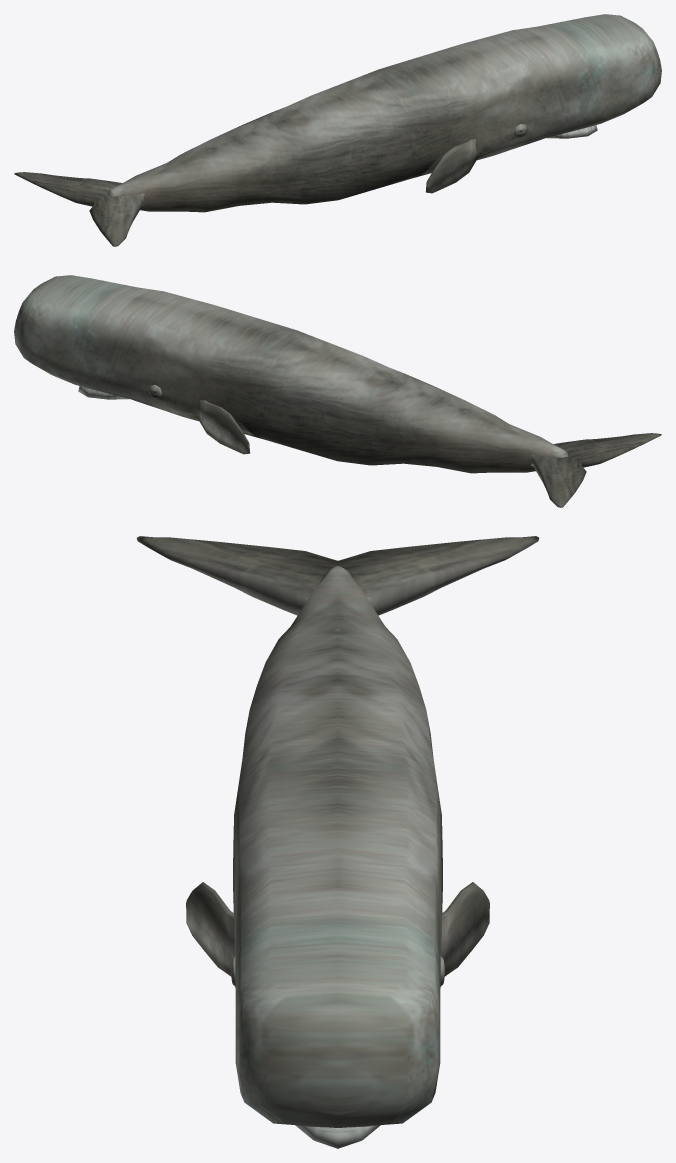
Rendered from sperm_whale_final.glb.
3 renders of one model, top to bottom at view 1: azimuth 30°, elevation 25°; view 2: azimuth 150°, elevation 25°; view 3: azimuth 270°, elevation 25°, orthographic. The views are drawn at different scales.
Visible parts, largest first — view 1: Whale_tail, Fins; view 2: Whale_tail, Fins; view 3: Whale_tail, Fins.
Boxes of the visible parts, bbox=[...] form: Whale_tail: bbox=[14, 14, 661, 246]; Fins: bbox=[425, 138, 479, 193]; Whale_tail: bbox=[14, 275, 661, 507]; Fins: bbox=[196, 399, 250, 454]; Whale_tail: bbox=[136, 536, 539, 1148]; Fins: bbox=[186, 882, 489, 976].
Bounding box in the file's own units: 1 × 0.1713 × 0.2984.
Materials: 1 (1 with a texture image).
